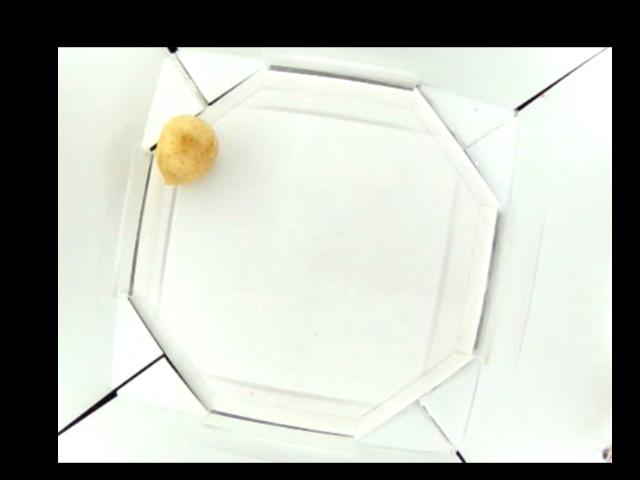Potato: (151, 114, 219, 183)
